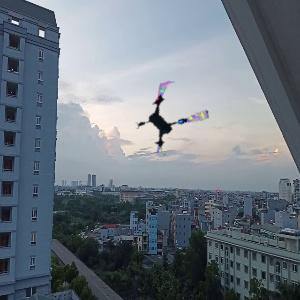drone: (132, 78, 210, 156)
